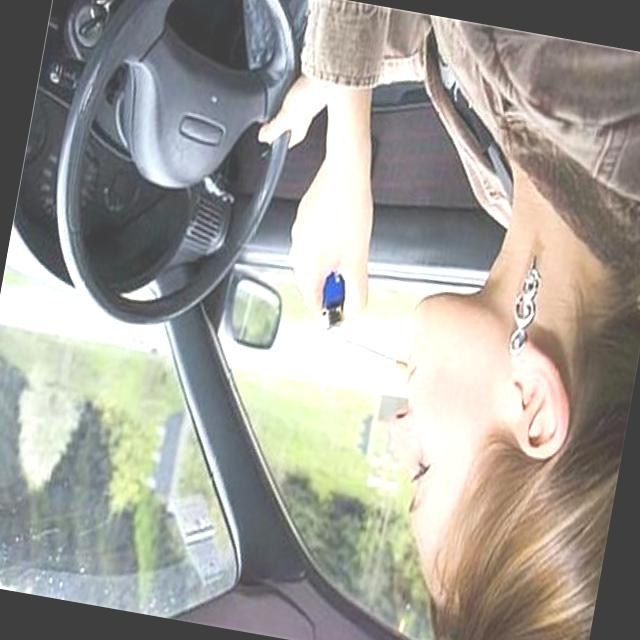smoke: (340, 332, 397, 374)
